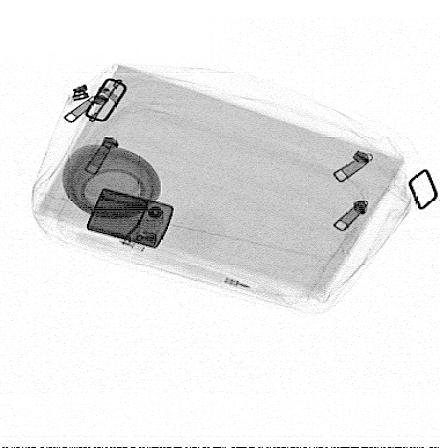Lighter: (85, 188, 175, 250)
